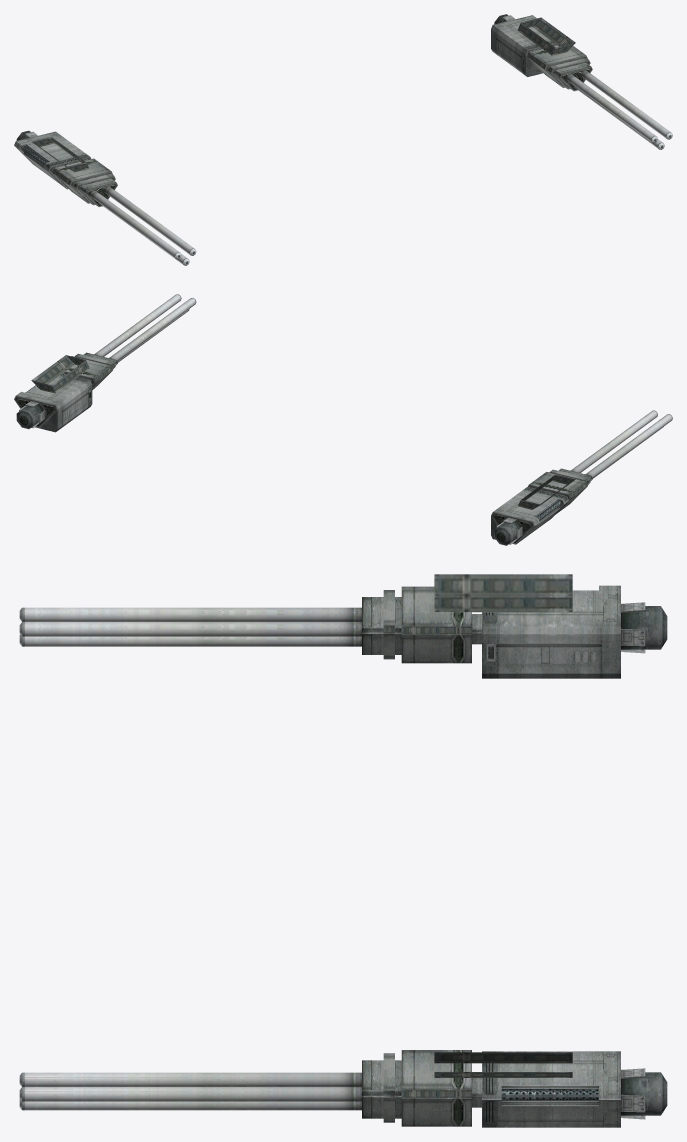
Rendered from black_sun_fighter_medium_weapon1_s04_l0.fbx.
The picture shows the model from 3 angles, top to bottom: view 1: azimuth 30°, elevation 25°; view 2: azimuth 150°, elevation 25°; view 3: azimuth 270°, elevation 25°; orthographic projection. The views are drawn at different scales.
Parts seen in each view (by area): view 1: mesh_node; view 2: mesh_node; view 3: mesh_node.
Boxes of the visible parts, x1=… form: mesh_node: x1=14, y1=14, x2=672, y2=265; mesh_node: x1=14, y1=294, x2=672, y2=545; mesh_node: x1=19, y1=574, x2=667, y2=1127.
Bounding box in the file's own units: 14.25 × 0.8971 × 7.68.
